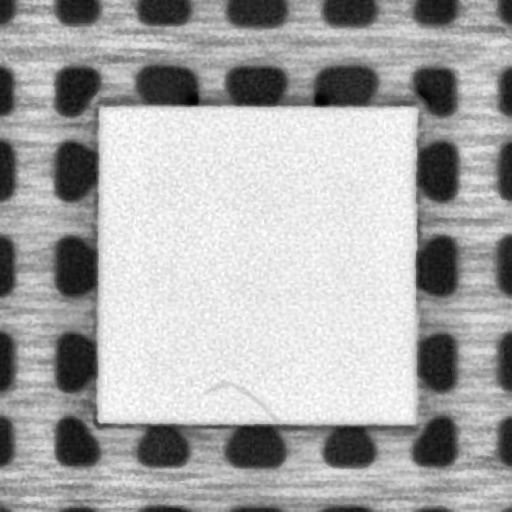DIE_CRACK: (196, 375, 274, 423)
